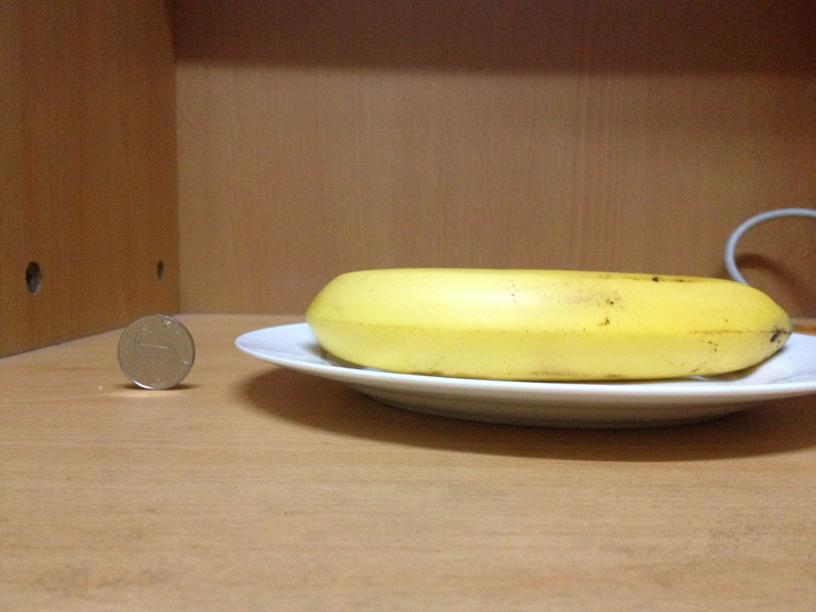banana: (305, 262, 791, 381)
coin: (116, 314, 196, 390)
